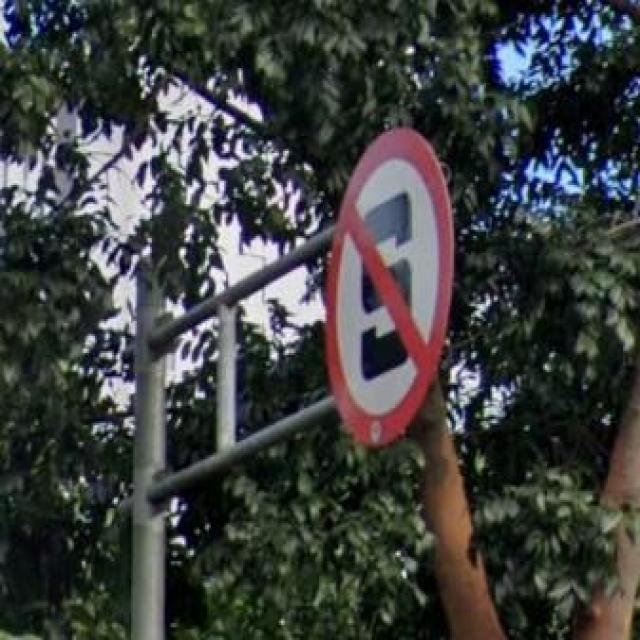traffic sign: (327, 126, 454, 449)
